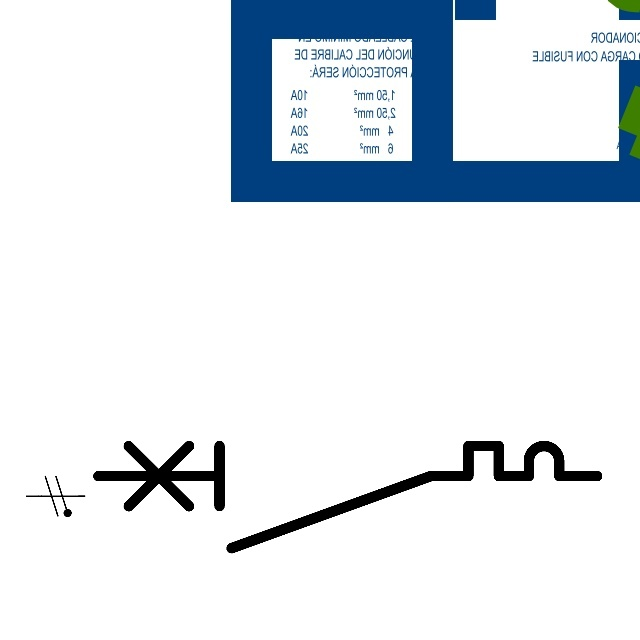interruptor_termomagnetico: (85, 433, 610, 561)
